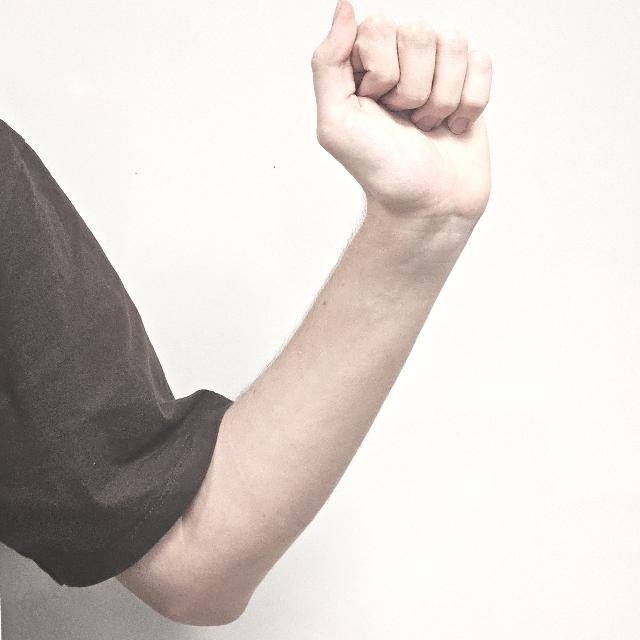Quadro: (306, 2, 500, 230)
